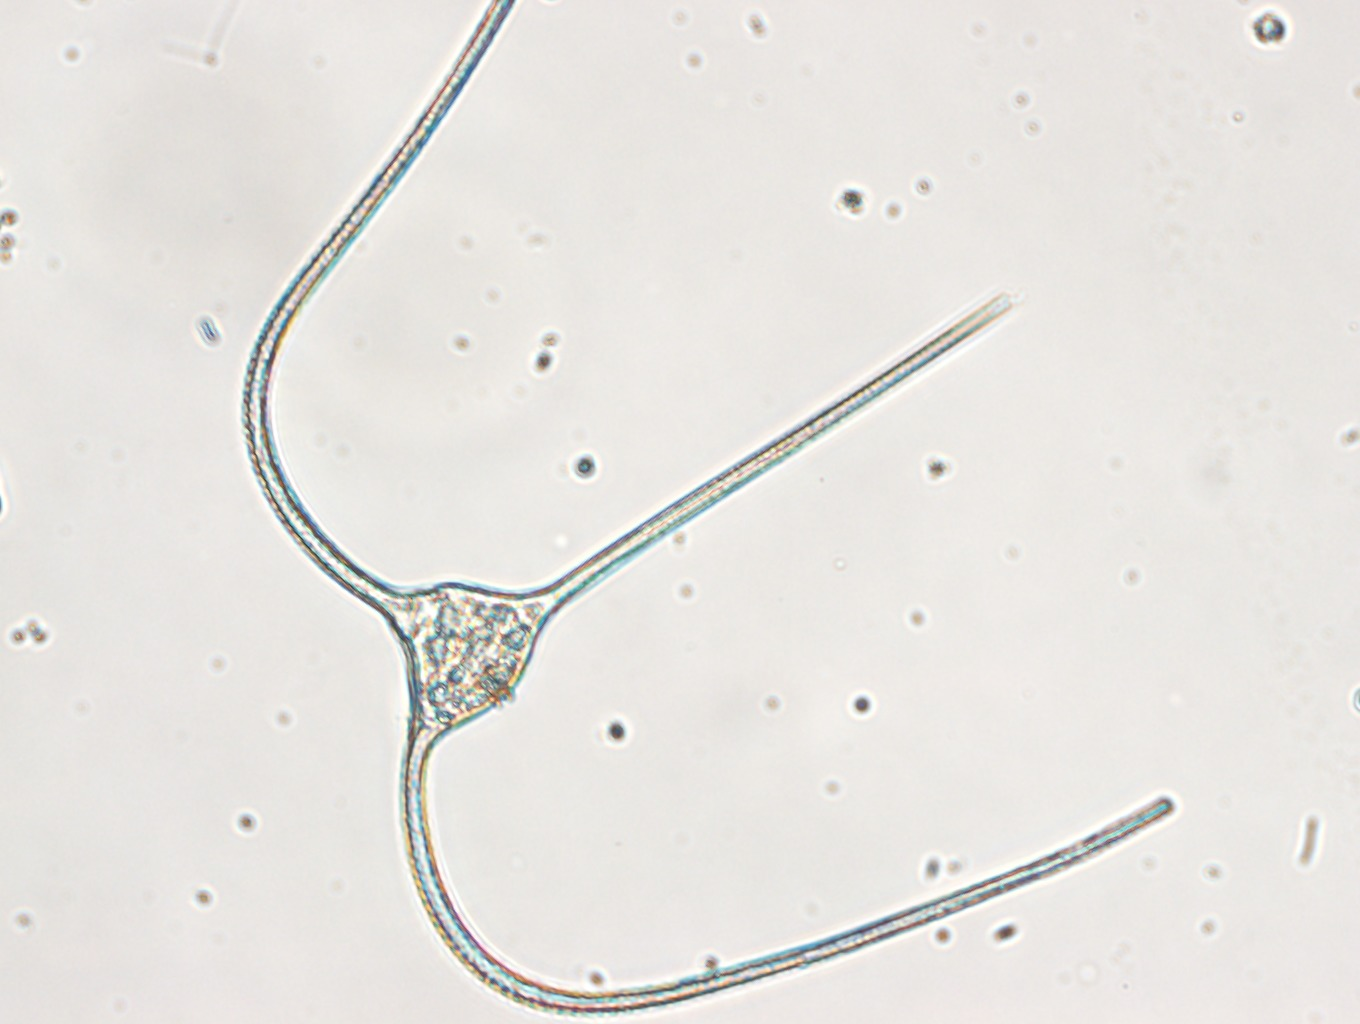ceratium trichoceros: (242, 1, 1186, 1019)
